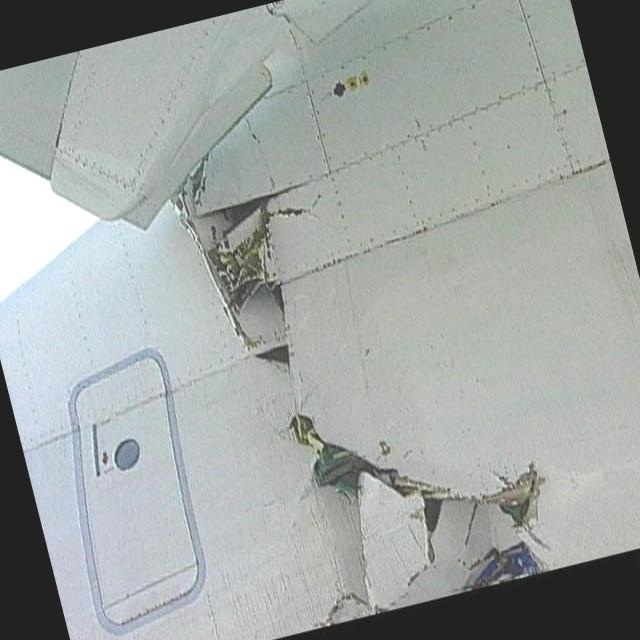crack: (150, 92, 564, 627)
